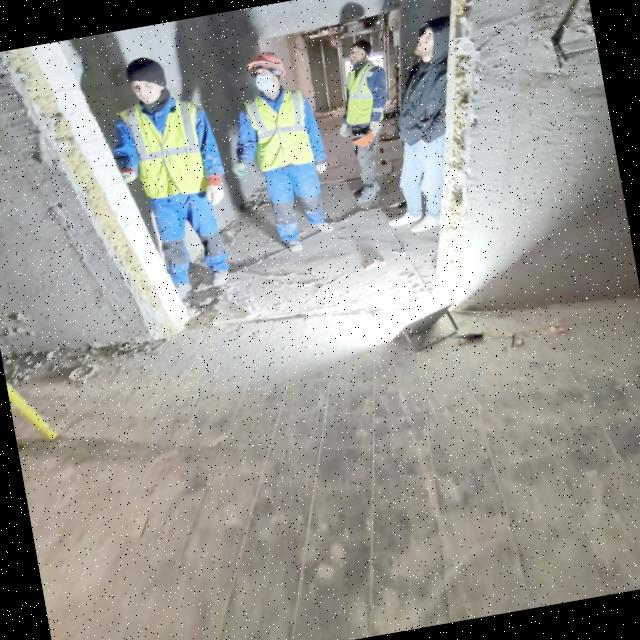Helmet: (242, 48, 293, 98)
NoHelmet: (117, 52, 174, 112), (408, 19, 453, 67), (342, 37, 374, 75)
